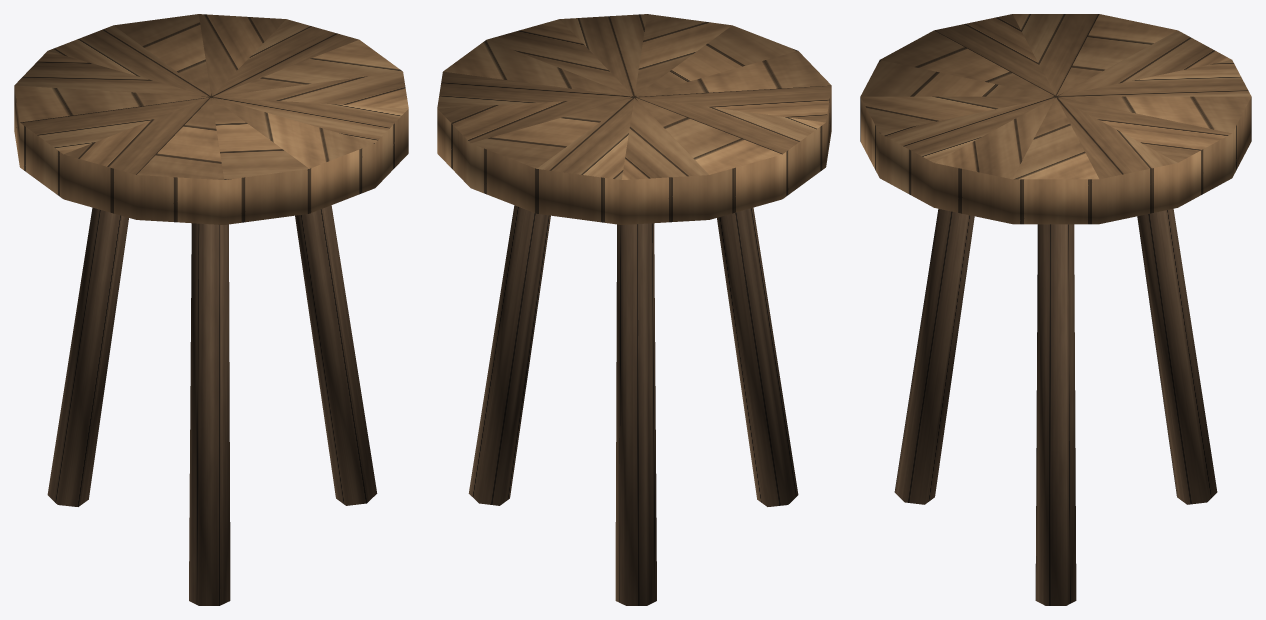
Rendered from Stool.gltf.
3 renders of one model, left to right at view 1: azimuth 30°, elevation 25°; view 2: azimuth 150°, elevation 25°; view 3: azimuth 270°, elevation 25°, orthographic.
Parts seen in each view (by area): view 1: Stool; view 2: Stool; view 3: Stool.
Boxes of the visible parts, <box> form: Stool: <box>14,14,408,605</box>; Stool: <box>437,14,831,605</box>; Stool: <box>860,14,1251,605</box>.
Size of the model in its own units: 0.48 by 0.59 by 0.48.
Materials: 2 (2 with a texture image).
